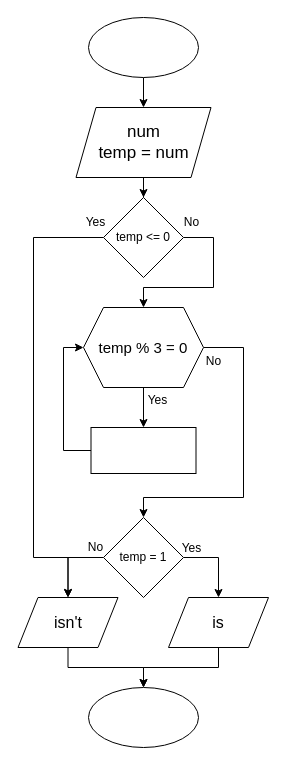
This 286x765 diagram has some shape labels left out. Each missing label, with the box of its shape:
End: (88, 686, 198, 748)
Start: (88, 16, 198, 78)
temp /= 3: (90, 426, 196, 474)
